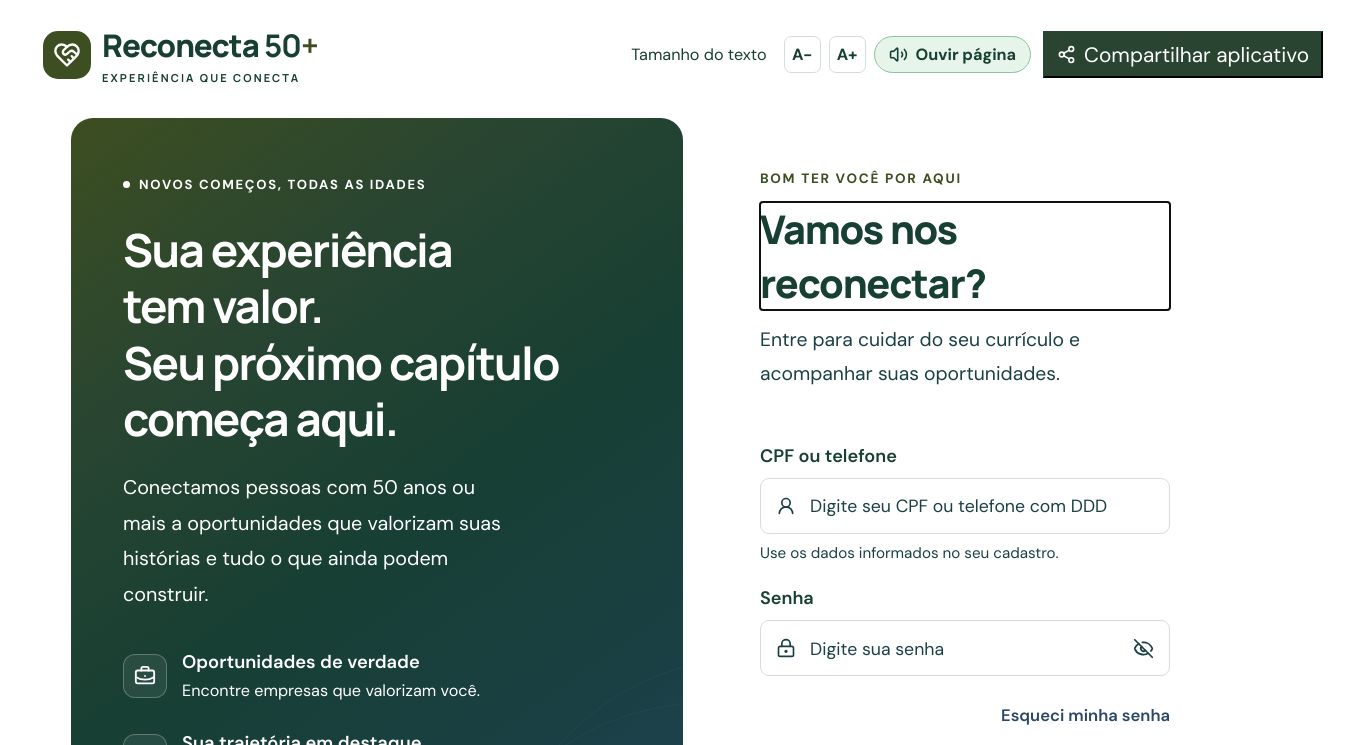
Test: descarta uma resposta atrasada após sair da conta
Step 1. Type "85999999999" into the field labelled "CPF ou telefone" → [981, 506], box [808,479,1154,533]
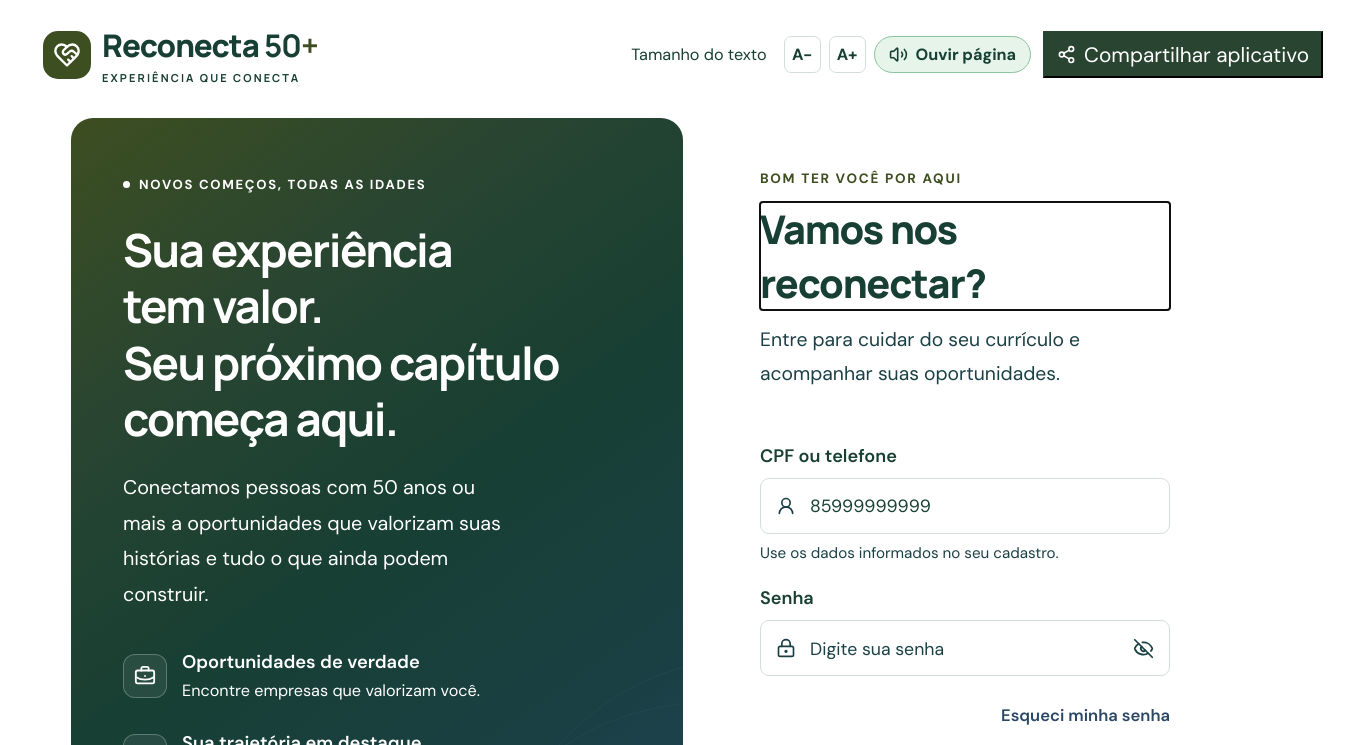
Step 2. Type "minha senha" into the field labelled "Senha" → [960, 648], box [808,622,1112,676]
(page scrolled)
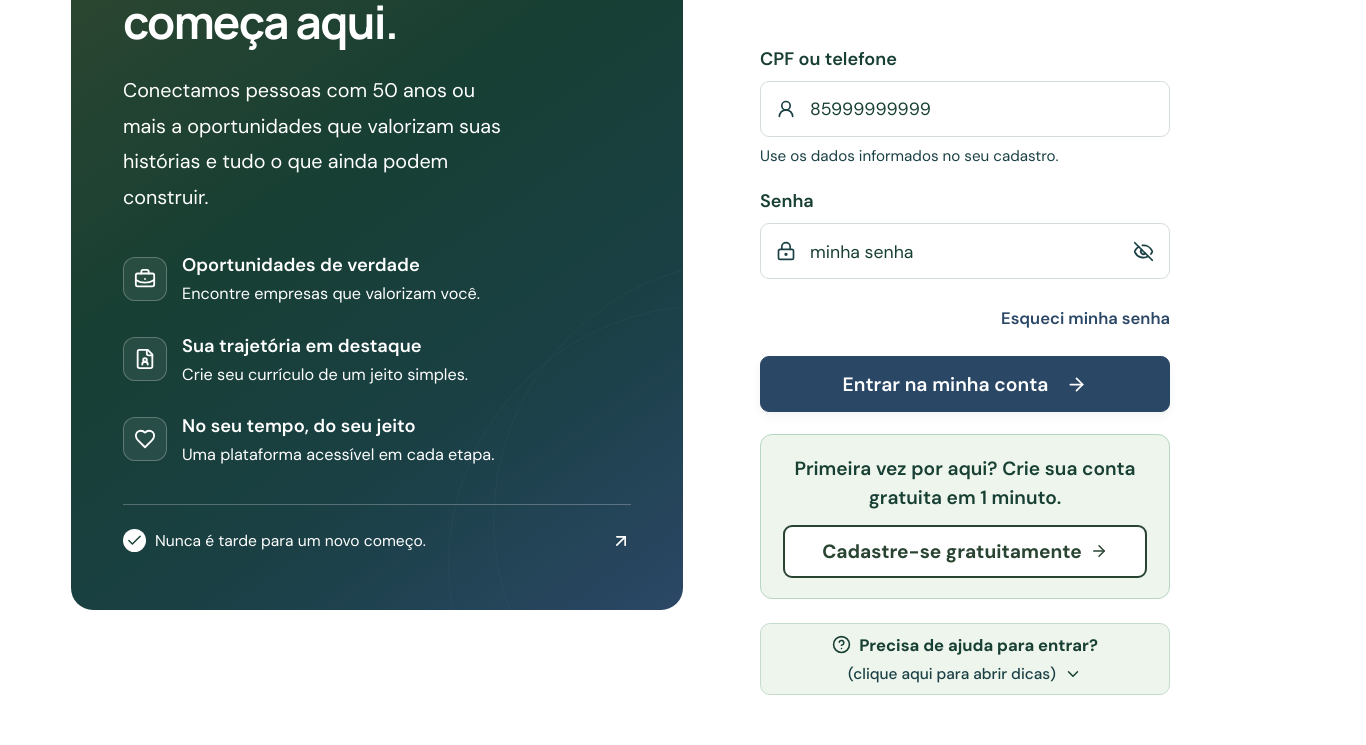
Step 3. Click the button "Entrar na minha conta" → [965, 384], box [760,356,1170,412]
(page scrolled)
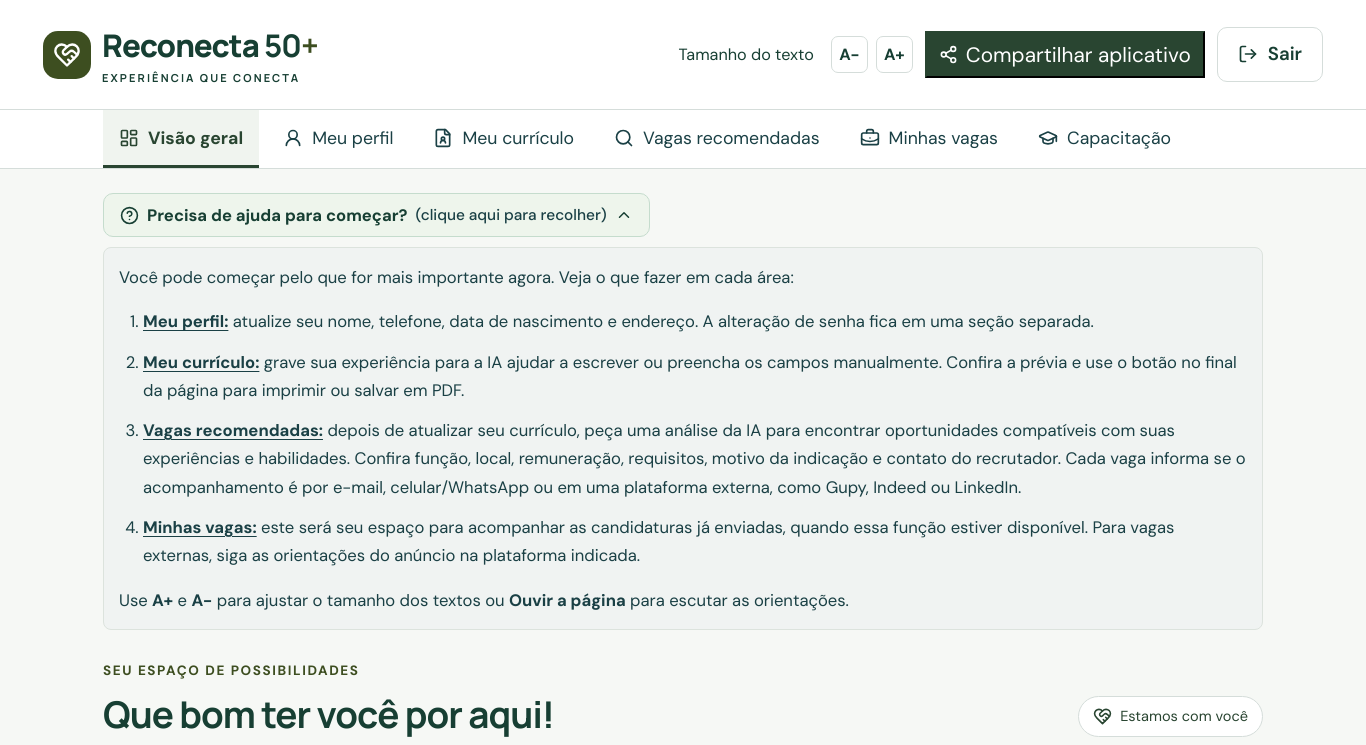
Expected: the button "Sair" is shown, [1217,28,1323,82]
Step 4. Click the link "Meu perfil" → [338, 138], box [283,126,393,149]
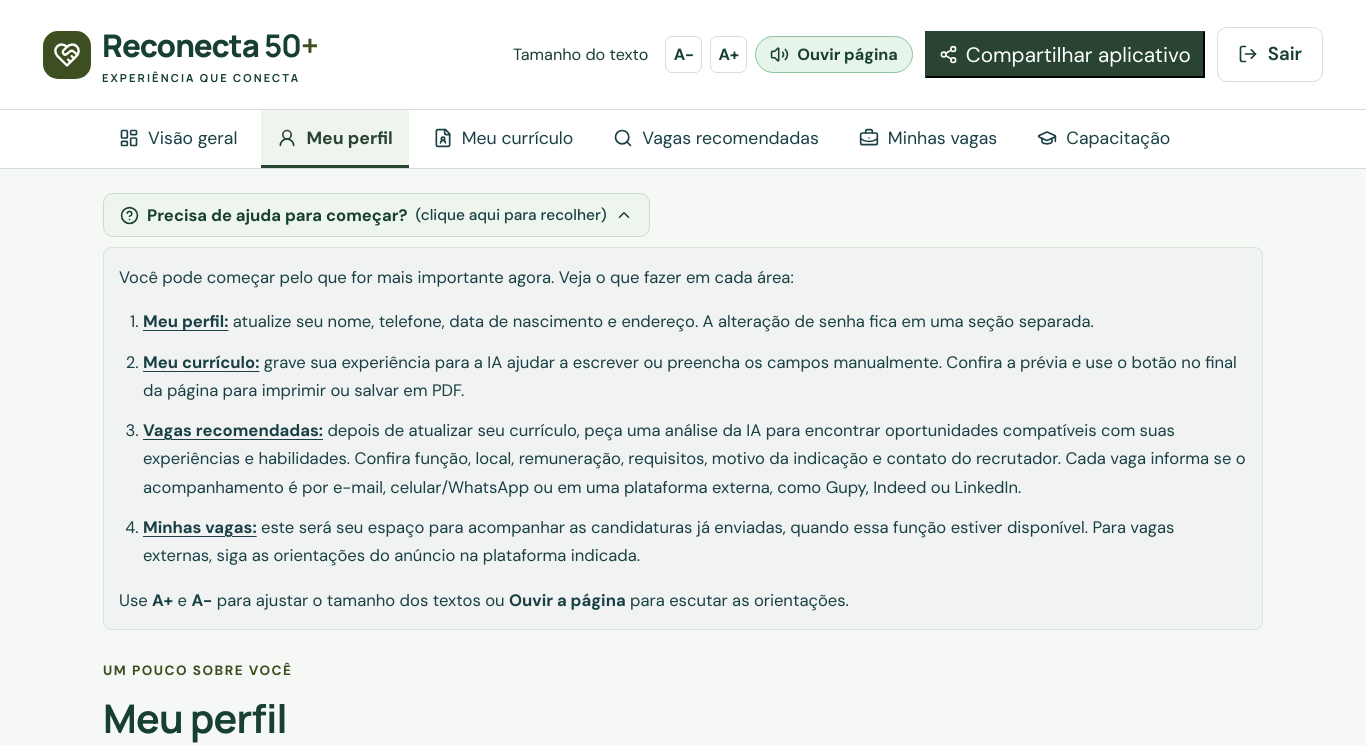
Step 5. Click the button "Sair" → [1270, 55], box [1217,28,1323,82]
(page scrolled)
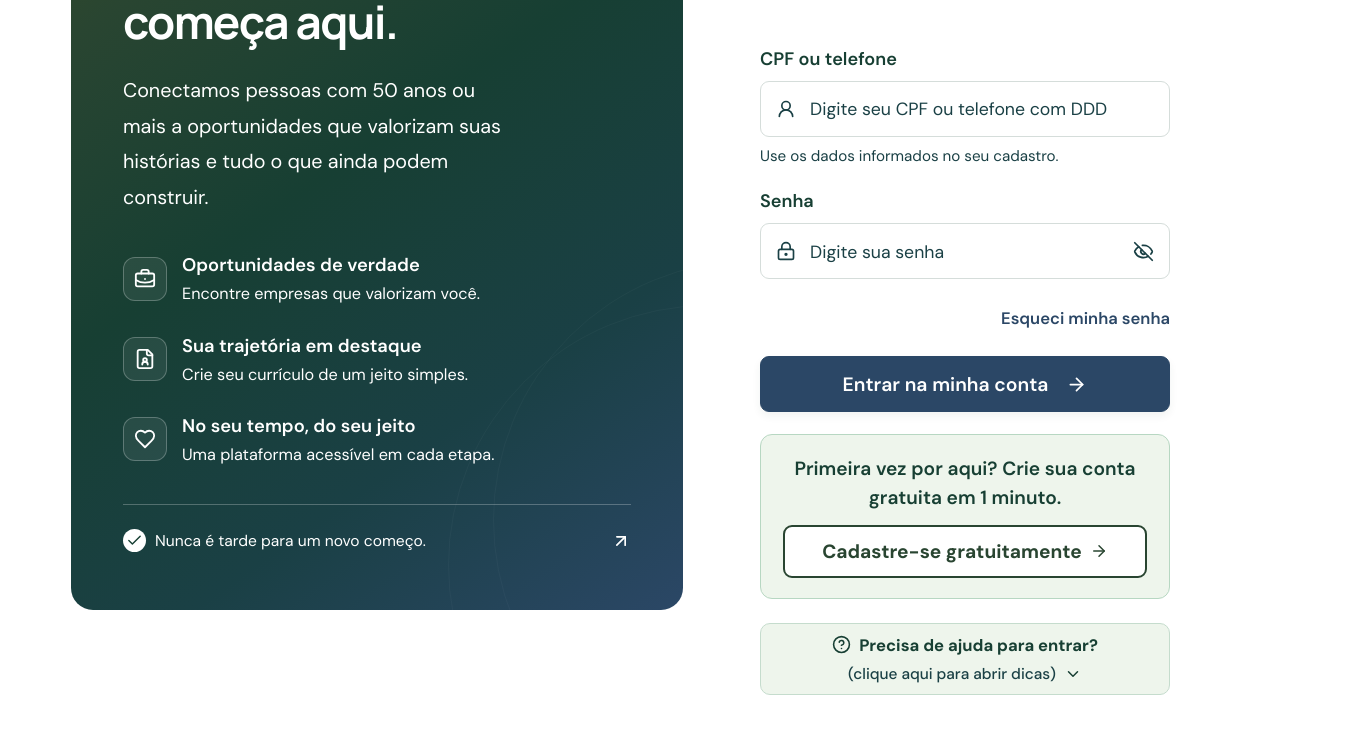
Expected: the button "Entrar na minha conta" is shown, [760,356,1170,412]
